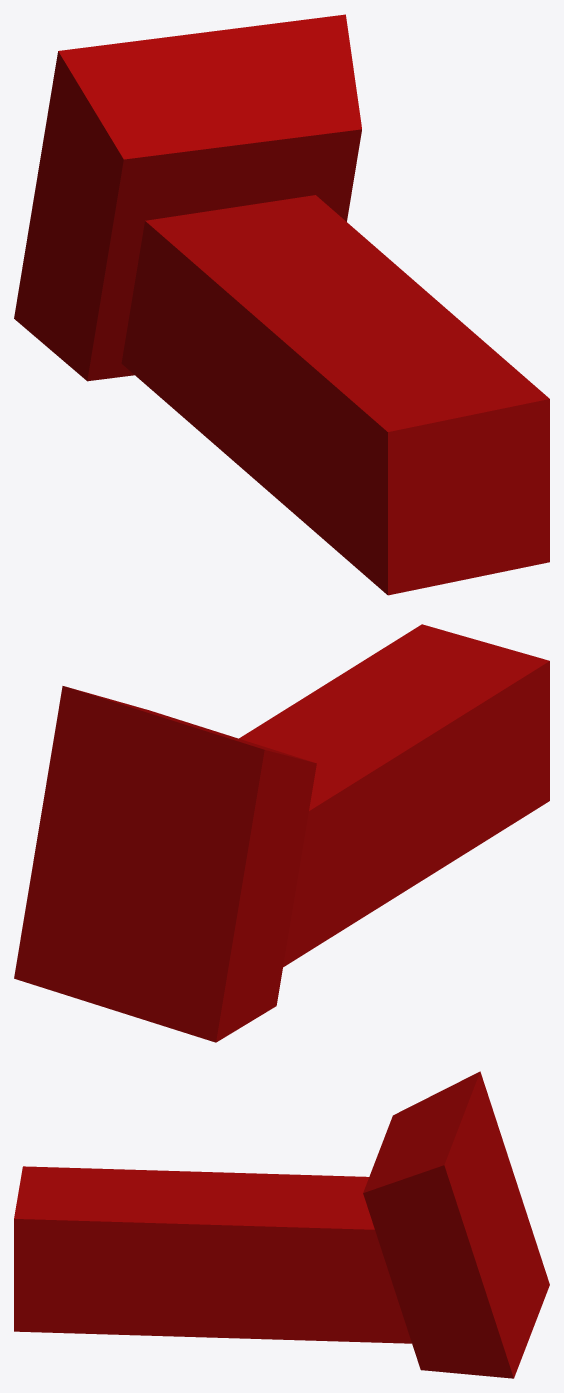
The model's file is SM_Bld_Ruins_Column_03_Collision.glb.
3 renders of one model, top to bottom at view 1: azimuth 30°, elevation 25°; view 2: azimuth 150°, elevation 25°; view 3: azimuth 270°, elevation 25°, orthographic. The views are drawn at different scales.
Visible parts, largest first — view 1: SM_Bld_Ruins_Column_03_Collision; view 2: SM_Bld_Ruins_Column_03_Collision; view 3: SM_Bld_Ruins_Column_03_Collision.
Boxes of the visible parts, x1,y1,x2,y2 form: SM_Bld_Ruins_Column_03_Collision: (14, 14, 549, 595); SM_Bld_Ruins_Column_03_Collision: (14, 624, 549, 1042); SM_Bld_Ruins_Column_03_Collision: (14, 1071, 549, 1378).
Bounding box in the file's own units: 1.64 × 1.88 × 4.08.
